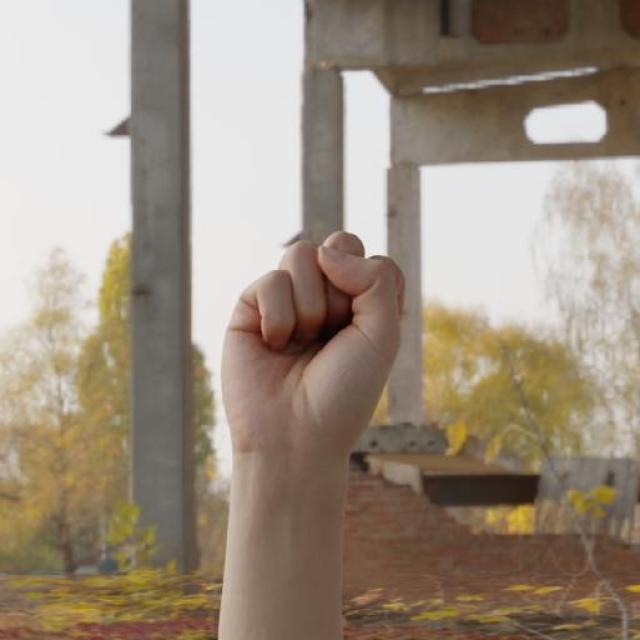S: (213, 226, 412, 460)
